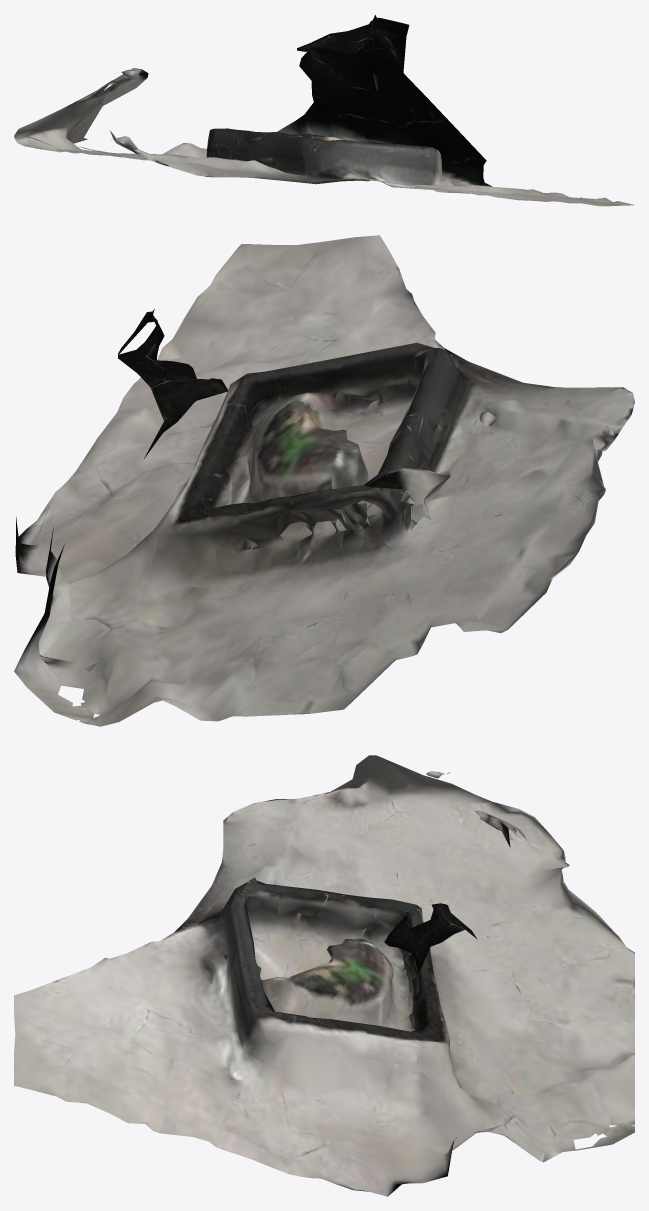
File: hall.glb
3 views of the same model, one above another, from view 1: azimuth 30°, elevation 25°; view 2: azimuth 150°, elevation 25°; view 3: azimuth 270°, elevation 25° (orthographic). The views are drawn at different scales.
Size of the model in its own units: 1.98 by 0.9141 by 2.09.
1 material, 1 textured.
